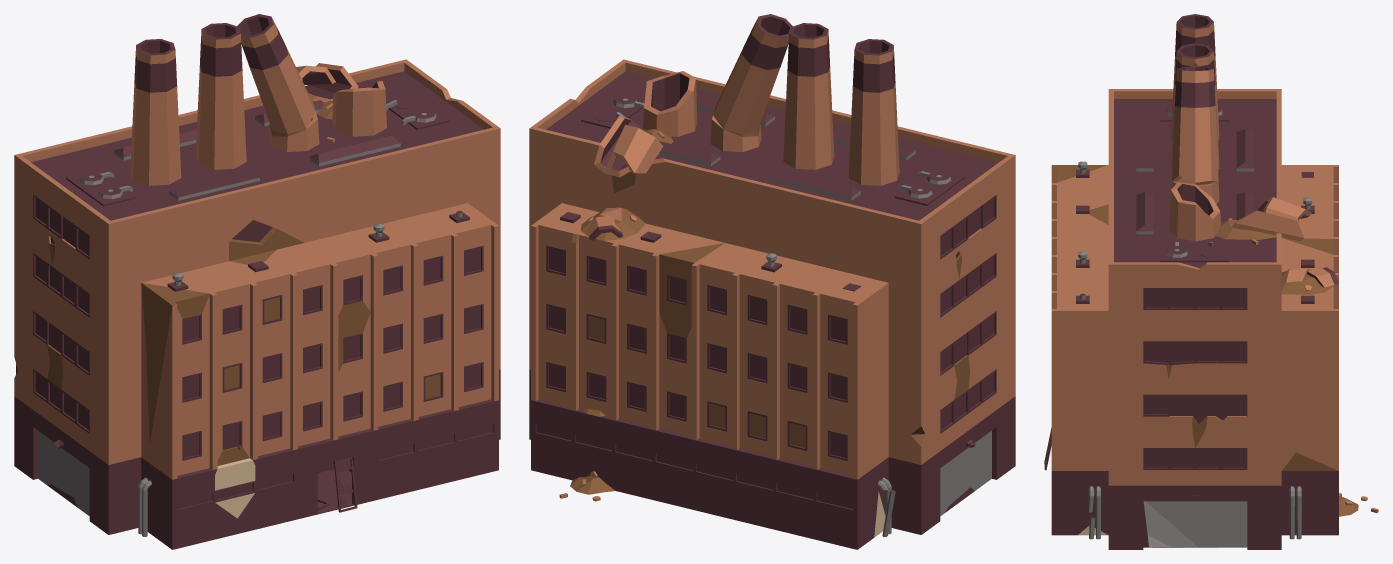
The model's file is industry-factory-apocalypse.fbx.
3 views of the same model, side by side, from view 1: azimuth 30°, elevation 25°; view 2: azimuth 150°, elevation 25°; view 3: azimuth 270°, elevation 25° (orthographic). The views are drawn at different scales.
Visible parts, largest first — view 1: industry-factory-apocalypse; view 2: industry-factory-apocalypse; view 3: industry-factory-apocalypse.
Boxes of the visible parts, x1,y1,x2,y2 form: industry-factory-apocalypse: [14, 14, 500, 549]; industry-factory-apocalypse: [529, 14, 1015, 549]; industry-factory-apocalypse: [1044, 14, 1378, 549].
Bounding box in the file's own units: 24.77 × 25.36 × 19.32.
